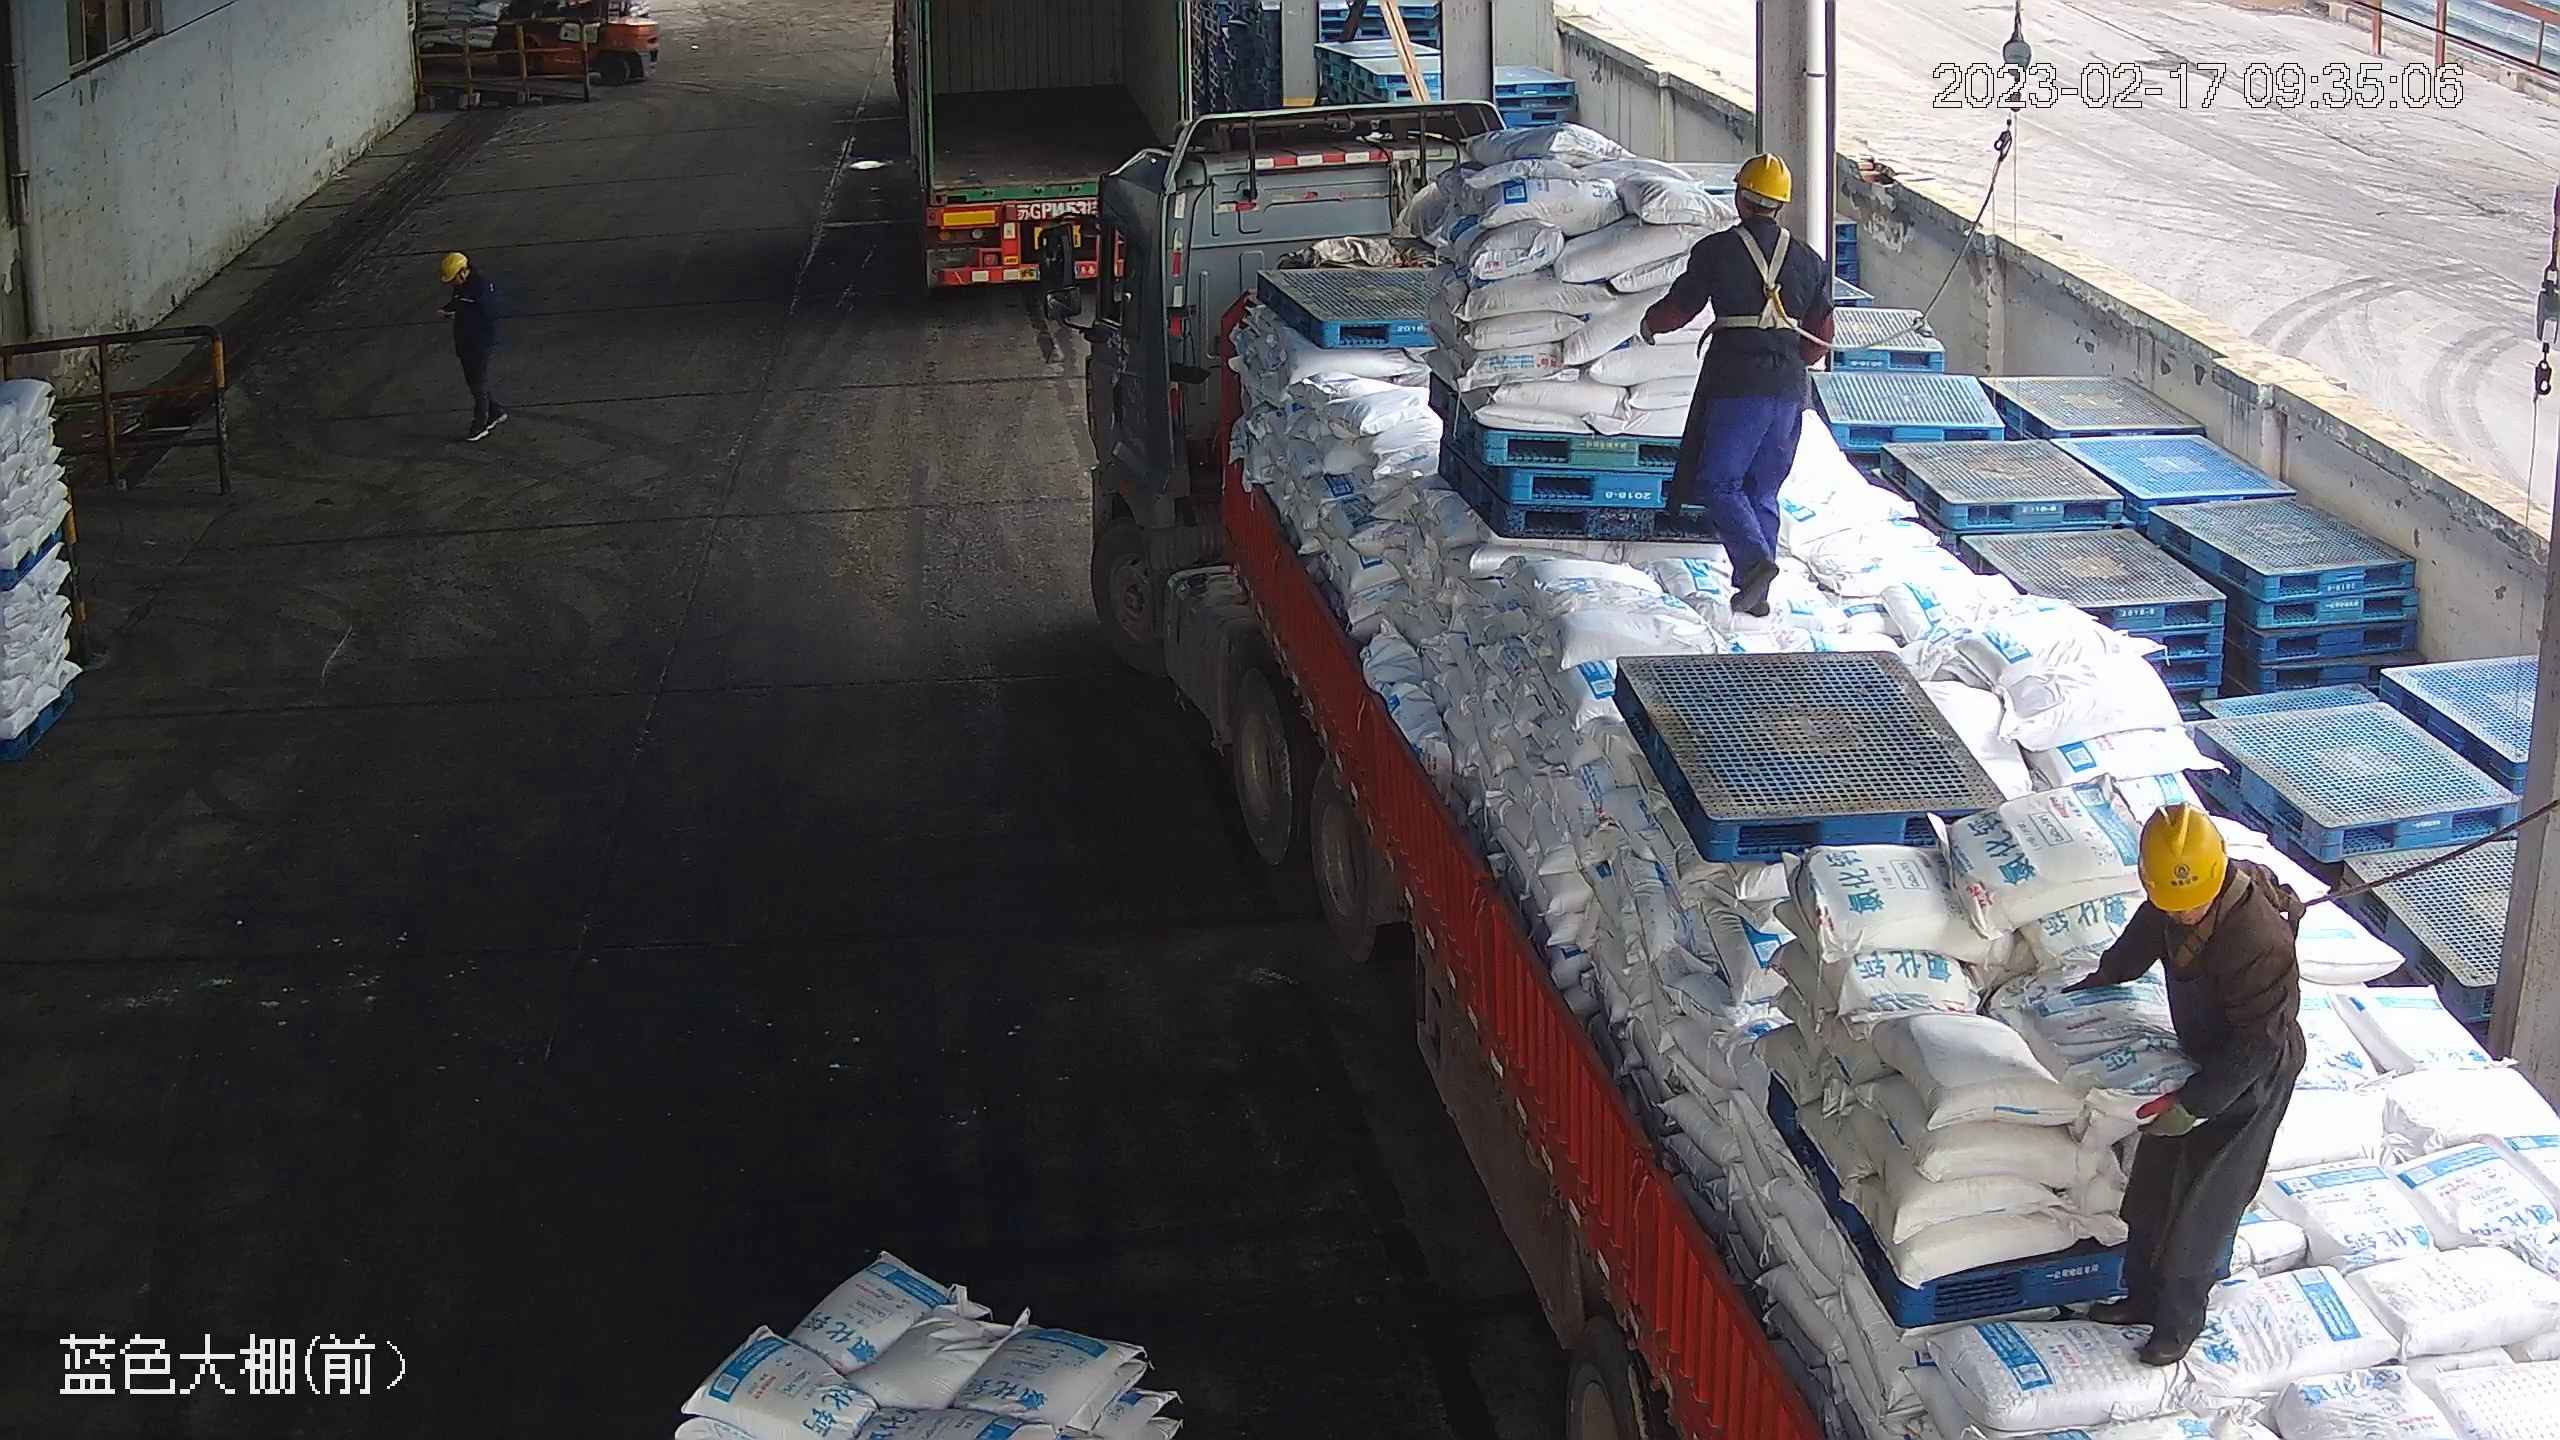belt: (2160, 865, 2278, 969), (1709, 226, 1814, 334)
head: (2110, 804, 2291, 988), (1688, 152, 1828, 281), (437, 249, 492, 306)
helmet: (2133, 801, 2230, 911), (1734, 152, 1795, 202), (437, 249, 466, 277)
people: (2060, 800, 2307, 1370), (1641, 150, 1837, 618), (437, 247, 509, 446)
truck: (1029, 101, 2552, 1438), (884, 1, 1196, 293)
